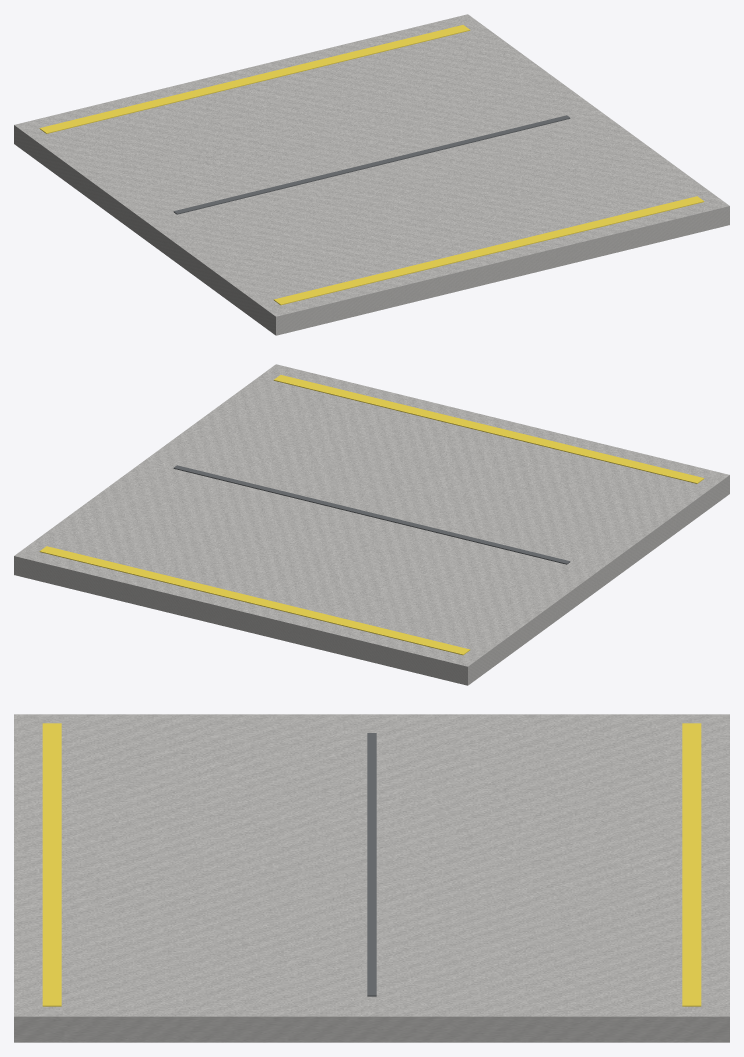
The model's file is self-storage-facility-and-loading-bay-self-storage-fac-7ef66b36__34692.glb.
The picture shows the model from 3 angles, top to bottom: view 1: azimuth 30°, elevation 25°; view 2: azimuth 150°, elevation 25°; view 3: azimuth 270°, elevation 25°; orthographic projection. The views are drawn at different scales.
Parts seen in each view (by area): view 1: self-storage-facility-and-loading-bay-corridor-floor-tile; view 2: self-storage-facility-and-loading-bay-corridor-floor-tile; view 3: self-storage-facility-and-loading-bay-corridor-floor-tile.
Boxes of the visible parts, left/top/right/bottom form: self-storage-facility-and-loading-bay-corridor-floor-tile: left=14, top=14, right=729, bottom=335; self-storage-facility-and-loading-bay-corridor-floor-tile: left=14, top=364, right=729, bottom=685; self-storage-facility-and-loading-bay-corridor-floor-tile: left=14, top=714, right=729, bottom=1042.
Bounding box in the file's own units: 3 × 0.1261 × 3.
3 materials, 1 textured.
